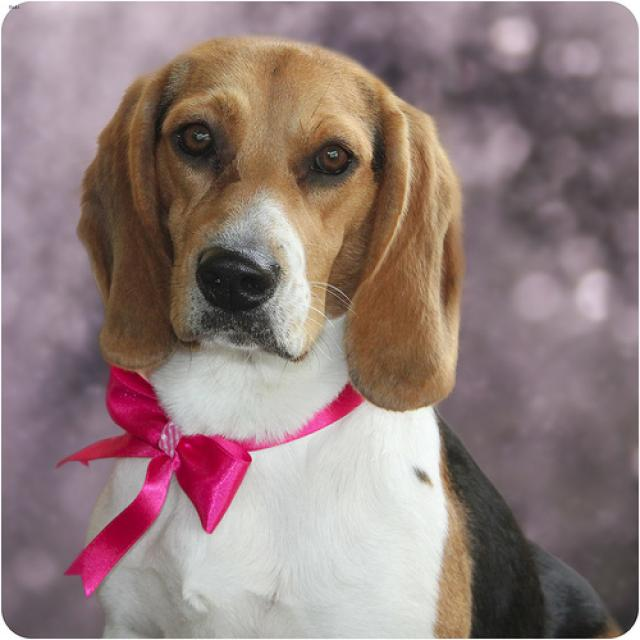dog-beagle: (61, 17, 628, 637)
